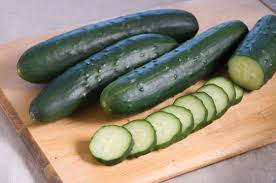cucumber: (16, 6, 276, 159)
